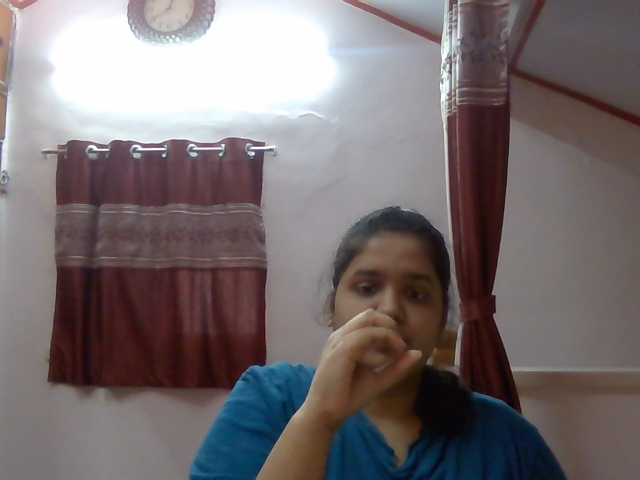o: (317, 305, 433, 417)
